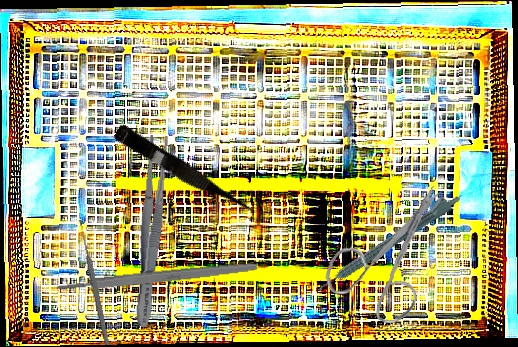Dressing Forceps: (130, 134, 172, 328)
Handpiece: (311, 186, 464, 295)
Iris Scissors: (319, 182, 453, 328)
Micro Scissor: (111, 123, 260, 224)
Scalpel Handle: (55, 260, 259, 294)
Surgical Spoon: (77, 219, 111, 346)
